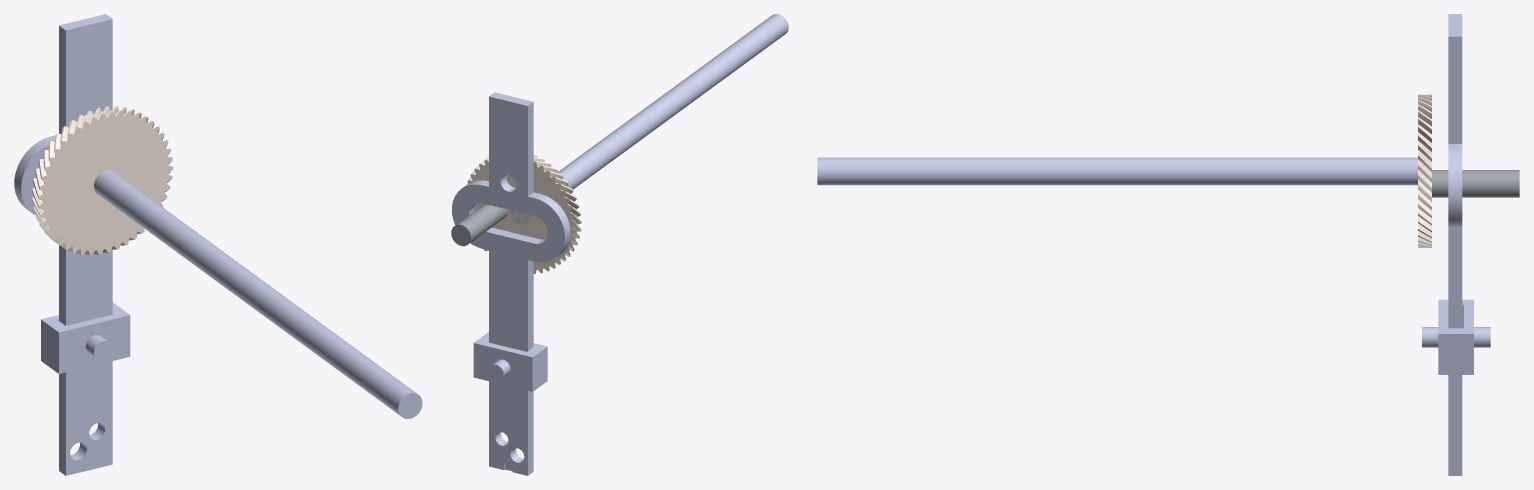
File: jigsaw_assembly.glb
The picture shows the model from 3 angles, left to right: view 1: azimuth 30°, elevation 25°; view 2: azimuth 150°, elevation 25°; view 3: azimuth 270°, elevation 25°; orthographic projection. The views are drawn at different scales.
Parts seen in each view (by area): view 1: Dissection 2 - Jigsaw Follower-1, helical gear_3_am-7, Dissection 2 - Motor Shaft-1, Dissection 2 - Blade Guide-1; view 2: Dissection 2 - Jigsaw Follower-1, Dissection 2 - Motor Shaft-1, helical gear_3_am-7, Dissection 2 - Blade Guide-1, Dissection 2 - 4mm Pin-1; view 3: Dissection 2 - Motor Shaft-1, Dissection 2 - Jigsaw Follower-1, Dissection 2 - Blade Guide-1, helical gear_3_am-7, Dissection 2 - 4mm Pin-1.
Part boxes in pixels (x1,y1,x2,y2): Dissection 2 - Jigsaw Follower-1: [14, 14, 112, 475]; helical gear_3_am-7: [32, 106, 173, 255]; Dissection 2 - Motor Shaft-1: [94, 170, 422, 418]; Dissection 2 - Blade Guide-1: [41, 302, 130, 373]; Dissection 2 - Jigsaw Follower-1: [452, 92, 570, 475]; Dissection 2 - Motor Shaft-1: [510, 14, 788, 224]; helical gear_3_am-7: [467, 154, 581, 273]; Dissection 2 - Blade Guide-1: [473, 332, 547, 391]; Dissection 2 - 4mm Pin-1: [451, 204, 507, 246]; Dissection 2 - Motor Shaft-1: [817, 157, 1417, 185]; Dissection 2 - Jigsaw Follower-1: [1448, 14, 1462, 475]; Dissection 2 - Blade Guide-1: [1422, 299, 1490, 374]; helical gear_3_am-7: [1418, 94, 1431, 247]; Dissection 2 - 4mm Pin-1: [1432, 170, 1519, 197].
Size of the model in its own units: 0.034 by 0.1061 by 0.1536.
